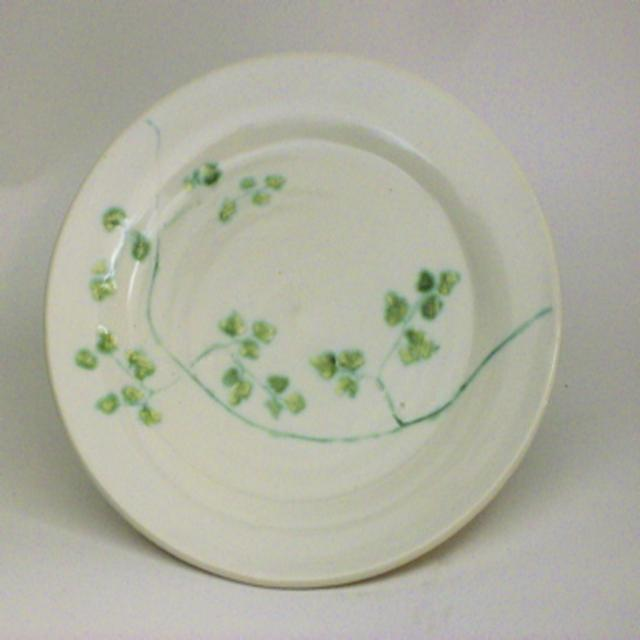non-organic waste: (58, 47, 564, 584)
